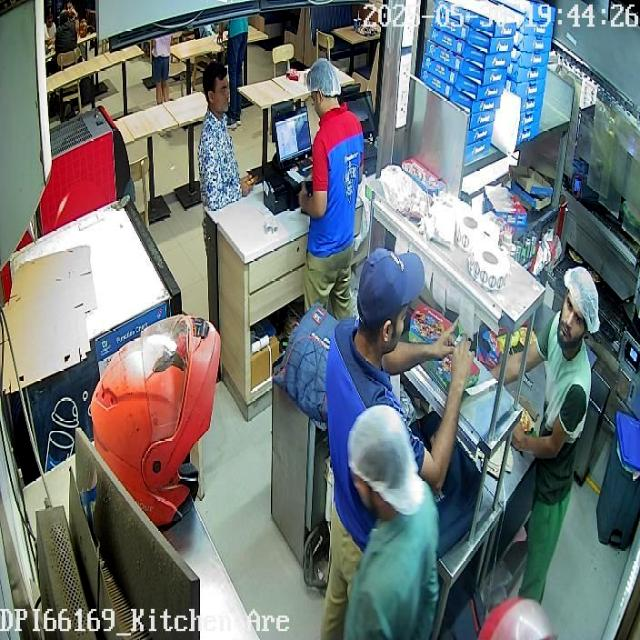helmet: (86, 313, 222, 525)
